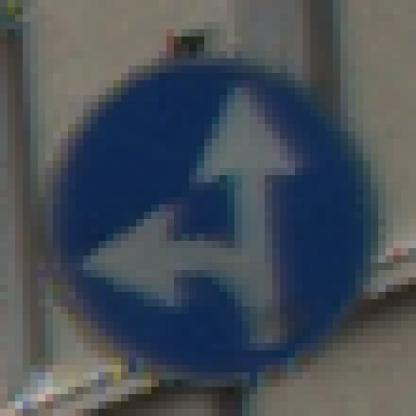Straight or Left: (47, 45, 380, 380)
